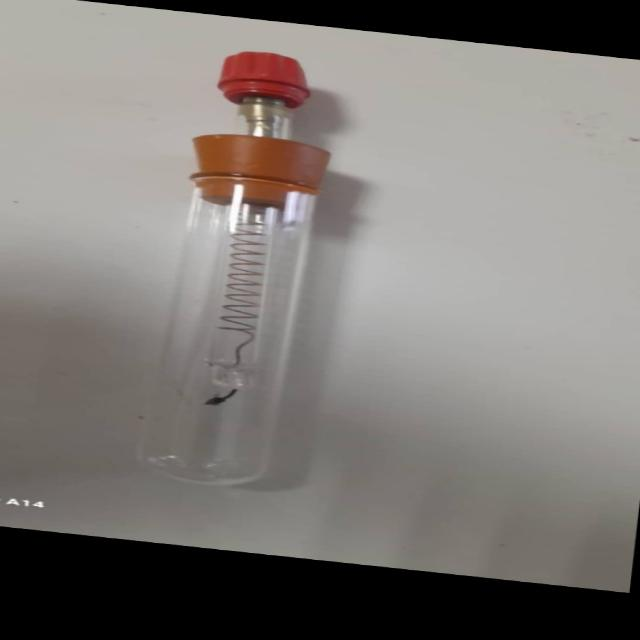Electrode: (98, 38, 364, 508)
